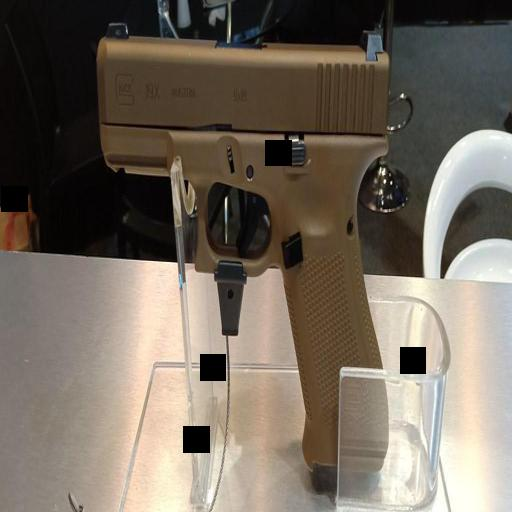Handgun: (91, 14, 395, 478)
